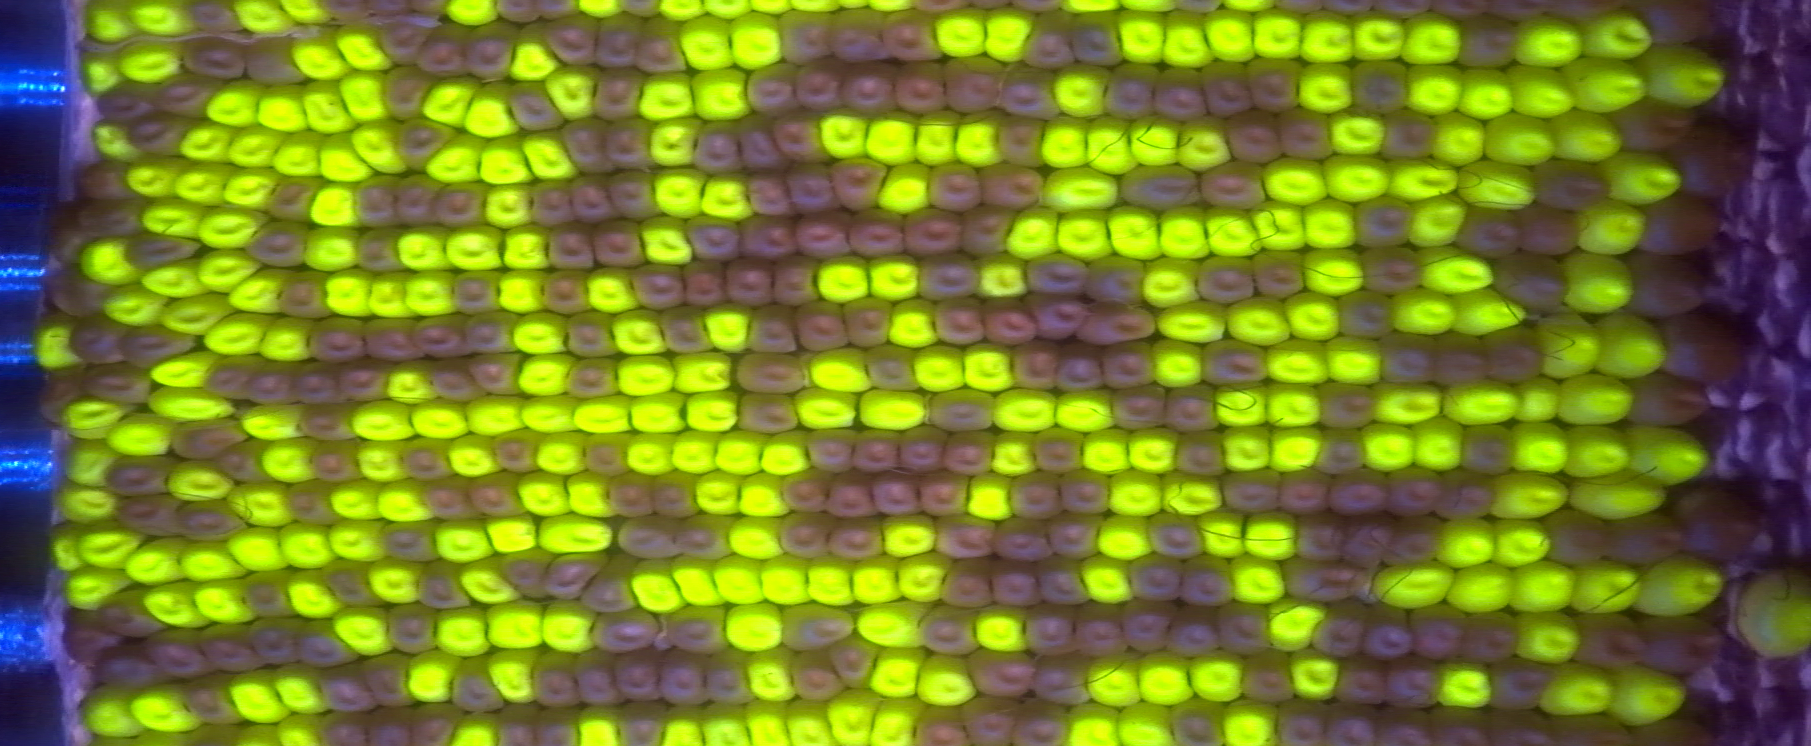fluorescent: (1738, 564, 1811, 664), (1620, 419, 1711, 492), (1633, 551, 1726, 619), (1637, 40, 1728, 109), (1607, 662, 1689, 734), (1558, 55, 1648, 117), (1533, 308, 1609, 380), (1564, 555, 1648, 618), (1587, 314, 1667, 380), (1565, 470, 1668, 520), (1501, 610, 1583, 671), (1440, 376, 1525, 435), (1559, 252, 1634, 318), (1553, 370, 1635, 430), (1545, 657, 1613, 728), (1034, 164, 1124, 217), (1367, 558, 1456, 611), (1501, 557, 1585, 612), (1559, 425, 1639, 483), (1571, 199, 1650, 256), (1291, 8, 1366, 69), (1547, 109, 1626, 165), (1445, 560, 1520, 618), (1483, 112, 1560, 167), (146, 381, 240, 426), (58, 564, 140, 616), (1200, 9, 1267, 73), (1154, 464, 1229, 521), (912, 651, 982, 713), (1507, 16, 1587, 69), (1601, 148, 1677, 203), (1447, 288, 1525, 342), (1579, 9, 1656, 64), (1456, 161, 1538, 211), (1370, 376, 1449, 428), (1486, 471, 1570, 521), (988, 386, 1065, 439), (1257, 152, 1331, 208), (1199, 203, 1267, 263), (821, 686, 890, 745), (1316, 152, 1398, 202), (1356, 415, 1419, 478), (1297, 196, 1365, 255), (633, 214, 703, 270), (1398, 12, 1469, 67), (1149, 298, 1225, 350), (536, 596, 599, 658), (889, 546, 954, 607), (1171, 111, 1232, 176), (1383, 154, 1462, 203), (327, 605, 397, 661), (1506, 65, 1577, 120), (955, 336, 1018, 398), (724, 10, 789, 70), (677, 14, 737, 79), (970, 603, 1038, 659), (74, 521, 151, 570), (604, 306, 673, 361), (1103, 200, 1167, 260), (258, 309, 321, 370), (343, 395, 418, 446), (1247, 196, 1311, 256), (296, 80, 360, 139), (1406, 416, 1471, 473), (1054, 60, 1111, 127), (1387, 288, 1463, 337), (1262, 336, 1335, 388), (515, 126, 583, 181), (1089, 512, 1158, 566), (1413, 247, 1500, 290), (739, 646, 800, 707), (629, 559, 690, 621), (1455, 64, 1518, 124), (349, 120, 412, 179), (532, 515, 625, 555), (1261, 597, 1328, 652), (444, 221, 512, 275), (854, 598, 930, 647), (854, 388, 933, 434), (1343, 12, 1413, 65), (1295, 57, 1357, 115), (198, 309, 271, 359), (1299, 246, 1370, 298), (676, 387, 747, 438), (720, 602, 787, 656), (866, 646, 927, 704), (1134, 649, 1195, 708), (542, 65, 604, 122), (690, 66, 752, 124), (1510, 370, 1572, 427), (1247, 9, 1310, 67), (80, 230, 143, 286), (1266, 379, 1331, 434), (1486, 516, 1553, 569), (512, 391, 583, 441), (666, 346, 735, 398), (1113, 12, 1173, 70), (875, 161, 934, 221), (1004, 201, 1063, 261), (1086, 652, 1145, 713), (755, 553, 812, 616), (1280, 288, 1342, 344), (483, 643, 538, 707), (1329, 106, 1394, 161), (224, 482, 298, 529), (1208, 380, 1279, 430), (1224, 294, 1290, 348), (1182, 650, 1249, 702), (430, 520, 501, 568), (131, 686, 202, 734), (419, 74, 479, 132), (102, 409, 177, 455), (270, 658, 327, 719), (1321, 331, 1384, 387), (225, 524, 289, 579), (139, 583, 211, 631), (1103, 465, 1168, 519), (1504, 420, 1568, 473), (1223, 553, 1289, 605), (122, 538, 193, 587), (459, 391, 532, 438), (234, 400, 308, 446), (875, 513, 942, 564), (1128, 111, 1187, 169), (497, 217, 556, 275), (707, 552, 766, 610), (1074, 554, 1135, 610), (789, 387, 860, 434), (1085, 114, 1139, 177), (432, 605, 494, 659), (976, 10, 1039, 64), (395, 264, 459, 318), (1136, 259, 1200, 312), (273, 519, 336, 572), (459, 559, 522, 612), (1054, 385, 1119, 437), (57, 394, 122, 445), (271, 125, 329, 182), (698, 167, 754, 226), (668, 553, 724, 612), (1430, 109, 1489, 165), (1158, 12, 1217, 68), (196, 207, 270, 252), (395, 224, 456, 278), (864, 254, 925, 308), (1125, 423, 1186, 477), (1437, 517, 1498, 572), (959, 475, 1021, 528), (298, 223, 362, 275), (483, 599, 547, 650), (805, 346, 874, 394), (284, 574, 350, 624), (912, 340, 970, 396), (403, 648, 461, 704), (1437, 656, 1495, 713), (1410, 193, 1468, 249), (1217, 422, 1276, 477), (644, 117, 705, 171), (95, 283, 171, 326), (1147, 337, 1208, 390), (157, 294, 231, 338), (198, 244, 261, 294), (228, 266, 291, 316), (147, 258, 218, 303), (610, 355, 681, 400), (972, 251, 1030, 306), (226, 672, 284, 728), (1036, 117, 1095, 171), (307, 180, 366, 234), (1404, 62, 1465, 115), (79, 687, 146, 734), (180, 117, 243, 167), (66, 437, 129, 486), (464, 87, 521, 142), (509, 309, 574, 358), (908, 111, 966, 165), (653, 164, 707, 222), (219, 163, 280, 215), (513, 348, 573, 400), (47, 478, 122, 520), (1113, 699, 1179, 746), (581, 266, 642, 316), (732, 471, 793, 522), (179, 540, 246, 587), (161, 458, 228, 505), (326, 519, 393, 565), (258, 440, 321, 488), (337, 69, 394, 124), (886, 299, 940, 356), (803, 555, 857, 612), (289, 31, 346, 84), (862, 114, 919, 167), (504, 29, 562, 81), (139, 197, 210, 240), (476, 137, 536, 188), (1240, 509, 1301, 560), (1264, 424, 1324, 475), (1218, 700, 1284, 746), (1075, 428, 1136, 478), (624, 391, 691, 437), (255, 84, 311, 139), (951, 113, 1006, 167), (363, 267, 416, 323), (988, 426, 1045, 478), (1154, 206, 1212, 258), (201, 84, 266, 130), (170, 163, 234, 209), (315, 133, 375, 182), (333, 24, 394, 73), (812, 255, 873, 304), (408, 397, 474, 442), (700, 304, 757, 356), (424, 137, 482, 188), (33, 319, 84, 376), (638, 73, 696, 122), (532, 432, 594, 479), (352, 438, 413, 485), (567, 393, 633, 437), (1064, 700, 1126, 746), (1193, 509, 1249, 561), (708, 432, 766, 482), (194, 581, 258, 626), (122, 152, 182, 200), (780, 699, 840, 746), (849, 559, 902, 612), (817, 109, 869, 163), (1285, 650, 1340, 702), (322, 266, 378, 316), (114, 45, 186, 84), (691, 467, 747, 516), (365, 558, 422, 607), (1054, 212, 1112, 261), (726, 513, 785, 560), (482, 182, 535, 234), (225, 124, 283, 171), (755, 430, 813, 477), (445, 434, 505, 479), (562, 468, 614, 520), (933, 13, 989, 61), (494, 268, 547, 318), (867, 696, 921, 746), (372, 482, 433, 524), (668, 430, 721, 478), (519, 472, 572, 521), (127, 1, 196, 38), (231, 1, 298, 39), (480, 514, 542, 555), (146, 351, 214, 388), (623, 431, 677, 477), (75, 50, 131, 95), (325, 480, 383, 522), (80, 1, 135, 45), (383, 364, 440, 406), (89, 119, 140, 165), (696, 701, 748, 746), (49, 523, 91, 577), (745, 701, 793, 746), (655, 708, 711, 746), (444, 713, 505, 746), (577, 704, 624, 746), (269, 715, 322, 746), (448, 1, 499, 32), (284, 1, 331, 30), (657, 1, 707, 24), (575, 1, 626, 21), (705, 1, 753, 21), (788, 1, 842, 17), (1121, 1, 1179, 16), (754, 1, 795, 21), (1070, 1, 1125, 13), (871, 1, 912, 15), (839, 1, 869, 13)
nonfluorescent: (1676, 482, 1764, 565), (1660, 311, 1745, 387), (1680, 120, 1757, 200), (1632, 614, 1727, 677), (1639, 197, 1726, 264), (1623, 258, 1711, 318), (1280, 555, 1376, 607), (1117, 164, 1208, 217), (1598, 512, 1689, 564), (1376, 324, 1446, 390), (1528, 157, 1611, 211), (729, 346, 817, 397), (1629, 372, 1707, 428), (774, 597, 852, 654), (1195, 337, 1281, 389), (1453, 206, 1527, 263), (1459, 607, 1525, 672), (1327, 655, 1395, 717), (967, 647, 1039, 704), (1402, 603, 1471, 663), (1492, 258, 1568, 312), (1081, 296, 1162, 346), (1432, 328, 1495, 394), (241, 33, 310, 94), (1514, 201, 1583, 260), (1489, 655, 1559, 713), (1326, 468, 1398, 524), (1356, 600, 1421, 663), (196, 622, 269, 678), (1214, 600, 1281, 661), (1570, 616, 1647, 667), (1350, 197, 1419, 255), (140, 626, 215, 679), (1274, 100, 1337, 163), (1615, 102, 1694, 151), (944, 50, 1003, 117), (1350, 58, 1418, 115), (927, 512, 1003, 564), (1018, 599, 1085, 657), (917, 604, 990, 657), (59, 609, 127, 665), (1018, 12, 1081, 72), (829, 3, 893, 64), (1481, 324, 1544, 385), (1311, 600, 1376, 659), (825, 158, 896, 211), (1452, 12, 1518, 69), (1436, 462, 1501, 520), (590, 607, 666, 657), (972, 159, 1052, 207), (1627, 1, 1713, 45), (1000, 62, 1063, 122), (781, 162, 847, 218), (1082, 255, 1154, 307), (574, 648, 629, 715), (1355, 245, 1423, 299), (839, 60, 899, 121), (360, 651, 423, 710), (1066, 7, 1124, 70), (1544, 510, 1609, 567), (1054, 465, 1119, 522), (885, 9, 951, 65), (1113, 598, 1180, 652), (1106, 381, 1173, 435), (304, 315, 371, 370), (1100, 65, 1160, 125), (544, 13, 604, 73), (497, 546, 557, 606), (892, 58, 951, 119), (1165, 604, 1227, 663), (296, 618, 365, 670), (535, 650, 593, 713), (1127, 553, 1192, 609), (1146, 512, 1212, 566), (1317, 379, 1383, 433), (681, 211, 747, 266), (1024, 246, 1091, 299), (1033, 554, 1093, 613), (1337, 515, 1396, 575), (1240, 646, 1302, 703), (1028, 657, 1097, 708), (823, 471, 887, 527), (1021, 422, 1090, 472), (676, 515, 747, 564), (796, 298, 854, 358), (774, 10, 835, 67), (1384, 465, 1447, 520), (1198, 164, 1270, 211), (926, 383, 999, 431), (177, 36, 249, 83), (741, 61, 806, 114), (901, 207, 967, 259), (933, 296, 991, 355), (1033, 294, 1091, 352), (464, 23, 521, 83), (985, 554, 1046, 610), (912, 258, 988, 303), (174, 499, 249, 544), (275, 269, 338, 322), (318, 664, 381, 717), (922, 161, 988, 211), (1462, 424, 1520, 482), (698, 651, 755, 709), (1389, 512, 1449, 567), (863, 340, 923, 395), (170, 418, 252, 458), (1171, 428, 1234, 482), (243, 355, 305, 408), (245, 617, 308, 669), (959, 696, 1024, 746), (1182, 555, 1239, 612), (1050, 342, 1106, 400), (445, 659, 502, 716), (847, 423, 905, 478), (413, 561, 474, 616), (1383, 107, 1444, 161), (1164, 383, 1225, 437), (420, 18, 474, 80), (736, 391, 807, 437), (425, 359, 490, 409), (1243, 59, 1301, 114), (769, 109, 827, 164), (692, 121, 746, 180), (992, 113, 1052, 166), (590, 216, 650, 269), (237, 570, 298, 622), (465, 476, 534, 522), (465, 352, 530, 401), (609, 646, 664, 702), (842, 291, 896, 349), (400, 434, 457, 488), (957, 208, 1018, 260), (1292, 512, 1352, 564), (1045, 509, 1105, 561), (504, 80, 564, 132), (105, 456, 180, 498), (544, 551, 606, 600), (181, 678, 244, 728), (1218, 471, 1285, 517), (247, 221, 311, 269), (664, 604, 728, 652), (94, 592, 167, 634), (1199, 62, 1255, 117), (1227, 112, 1283, 166), (313, 439, 370, 493), (638, 18, 690, 77), (319, 561, 378, 613), (433, 177, 493, 227), (1195, 258, 1261, 304), (1547, 713, 1644, 744), (356, 316, 423, 361), (1383, 657, 1438, 711), (1072, 605, 1126, 661), (595, 12, 642, 75), (1252, 249, 1310, 301), (383, 65, 435, 122), (746, 305, 804, 357), (1335, 285, 1394, 336), (735, 113, 785, 172), (88, 365, 156, 409), (115, 497, 189, 537), (733, 215, 799, 260), (1152, 67, 1206, 121), (65, 319, 132, 363), (1316, 426, 1374, 476), (591, 72, 650, 121), (625, 262, 685, 311), (94, 646, 162, 688), (845, 210, 907, 258), (658, 312, 720, 359), (398, 115, 452, 170), (605, 166, 659, 219), (1480, 704, 1549, 746), (738, 169, 793, 221), (559, 119, 610, 176), (221, 438, 277, 488), (1007, 469, 1065, 519), (788, 217, 851, 262), (124, 230, 203, 266), (92, 83, 161, 125), (827, 517, 888, 564), (460, 309, 521, 356), (899, 424, 953, 476), (1106, 341, 1161, 393), (1281, 469, 1337, 519), (564, 312, 620, 361), (657, 649, 707, 706), (1012, 701, 1074, 746), (407, 313, 469, 358), (420, 473, 478, 522), (46, 202, 94, 261), (1168, 704, 1235, 746), (119, 327, 196, 363), (985, 296, 1037, 349), (768, 256, 821, 308), (351, 173, 401, 229), (619, 514, 675, 564), (602, 119, 654, 171), (567, 171, 618, 224), (1270, 702, 1332, 746), (1373, 702, 1434, 746), (381, 16, 438, 64), (383, 519, 440, 566), (582, 564, 639, 611), (941, 427, 999, 473), (206, 355, 264, 400), (385, 599, 435, 651), (938, 558, 991, 607), (1006, 342, 1059, 391), (832, 637, 886, 686), (869, 471, 923, 520), (491, 428, 545, 477), (776, 515, 830, 564), (797, 58, 844, 113), (577, 430, 634, 476), (571, 352, 623, 402), (651, 471, 705, 520), (338, 355, 393, 402), (1426, 706, 1490, 746), (280, 482, 340, 524), (408, 702, 465, 746), (392, 173, 442, 223), (676, 258, 725, 308), (450, 267, 502, 315), (154, 77, 219, 115), (355, 230, 404, 279), (539, 263, 588, 314), (722, 259, 774, 306), (911, 704, 970, 746), (996, 519, 1051, 562), (267, 173, 318, 221), (912, 473, 974, 513), (549, 227, 601, 274), (46, 270, 105, 311), (1319, 707, 1379, 746), (527, 704, 583, 746), (526, 178, 577, 223), (312, 708, 373, 746), (606, 473, 657, 519), (364, 706, 420, 746), (298, 406, 359, 443), (1634, 719, 1717, 746), (614, 704, 668, 746), (79, 196, 142, 231), (295, 358, 340, 405), (131, 114, 187, 151), (782, 470, 827, 516), (43, 366, 75, 428), (77, 161, 129, 197), (495, 707, 544, 746), (191, 1, 247, 31), (495, 1, 546, 28), (327, 1, 373, 23), (539, 1, 581, 25), (617, 1, 663, 22), (409, 1, 450, 18)
